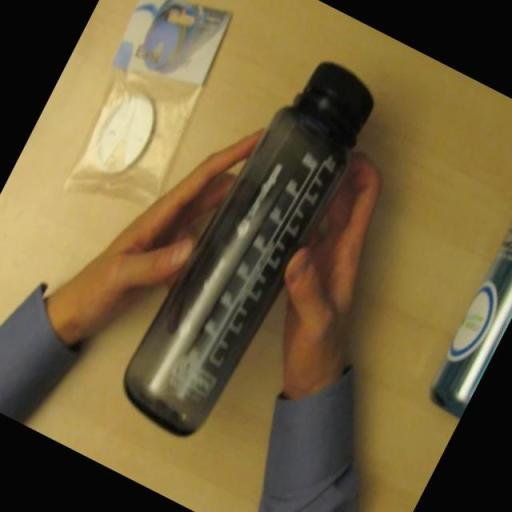bottle: (110, 43, 388, 448)
